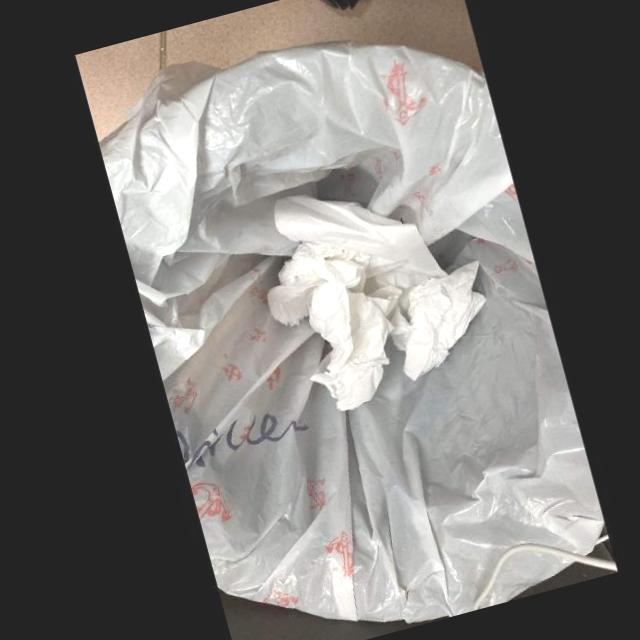giay: (267, 192, 490, 411)
